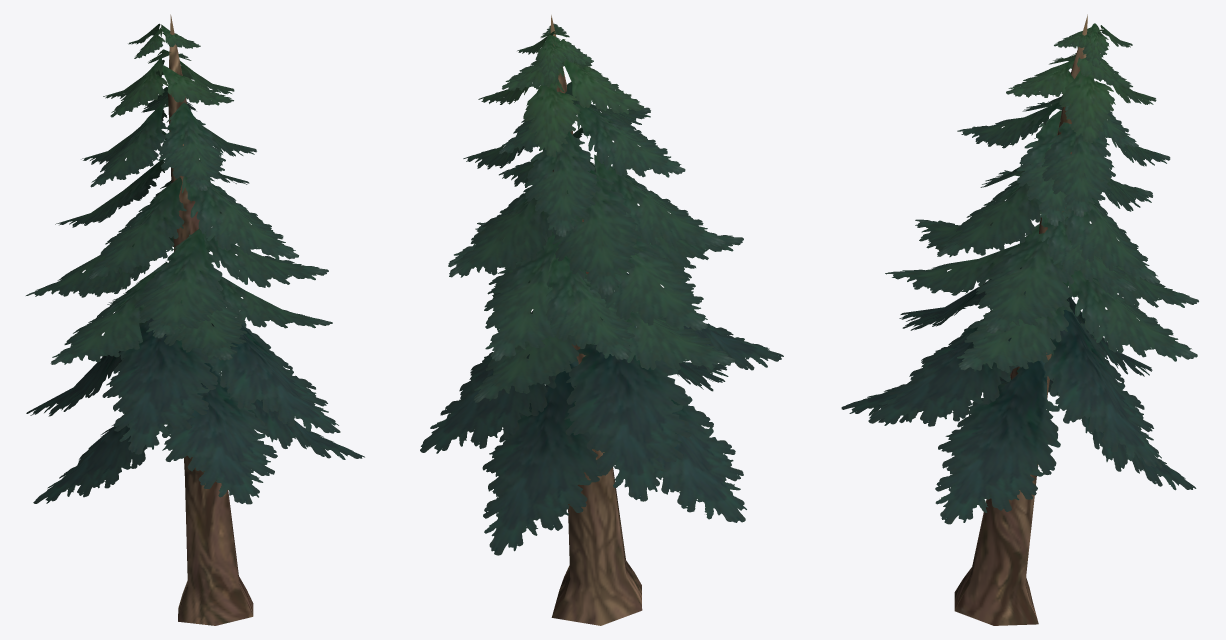
The model's file is Tree_A_3.fbx.
3 views of the same model, side by side, from view 1: azimuth 30°, elevation 25°; view 2: azimuth 150°, elevation 25°; view 3: azimuth 270°, elevation 25° (orthographic). The views are drawn at different scales.
Parts seen in each view (by area): view 1: Tree_A_3_Clone_, Tree_A_Trunk; view 2: Tree_A_3_Clone_, Tree_A_Trunk; view 3: Tree_A_3_Clone_, Tree_A_Trunk.
Boxes of the visible parts, x1,y1,x2,y2 form: Tree_A_3_Clone_: [26, 23, 364, 504]; Tree_A_Trunk: [168, 14, 253, 625]; Tree_A_3_Clone_: [420, 23, 783, 555]; Tree_A_Trunk: [550, 15, 642, 625]; Tree_A_3_Clone_: [841, 23, 1198, 524]; Tree_A_Trunk: [954, 14, 1087, 625].
Size of the model in its own units: 0.8375 by 1.51 by 0.8776.
2 materials, 2 textured.
